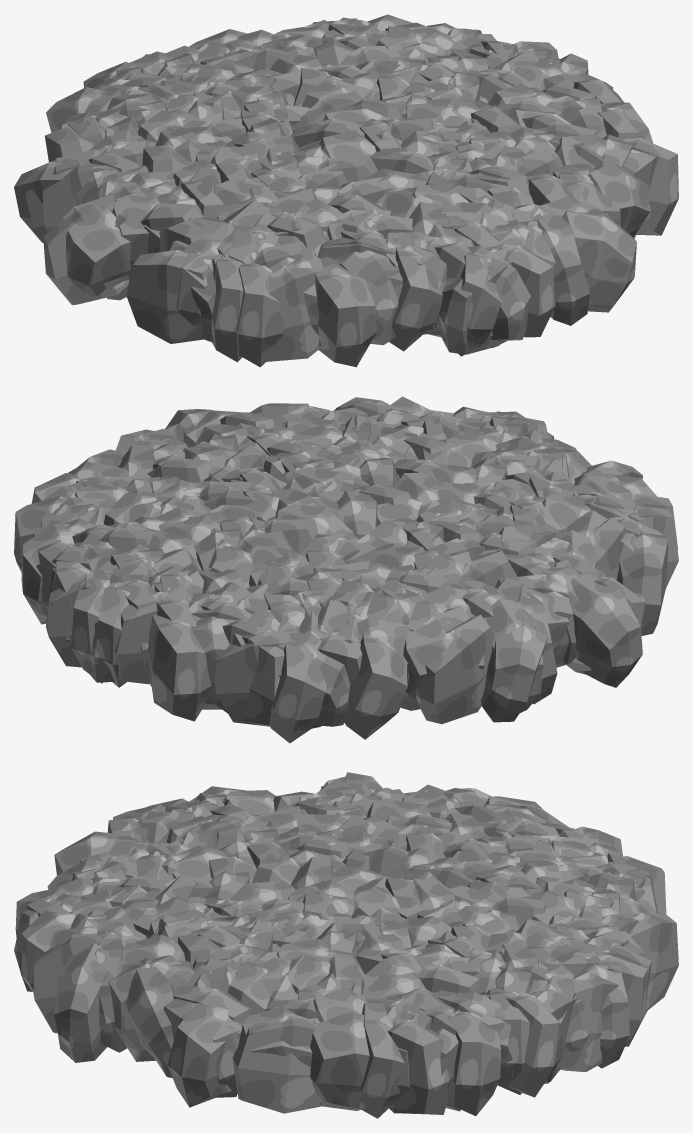
File: stoneStorageMaterial.fbx
3 views of the same model, one above another, from view 1: azimuth 30°, elevation 25°; view 2: azimuth 150°, elevation 25°; view 3: azimuth 270°, elevation 25° (orthographic).
Parts seen in each view (by area): view 1: Stone; view 2: Stone; view 3: Stone.
Boxes of the visible parts, x1,y1,x2,y2 form: Stone: (14, 14, 678, 367); Stone: (14, 396, 678, 743); Stone: (14, 772, 678, 1118).
Size of the model in its own units: 255 by 53.21 by 252.
1 material, 1 textured.
